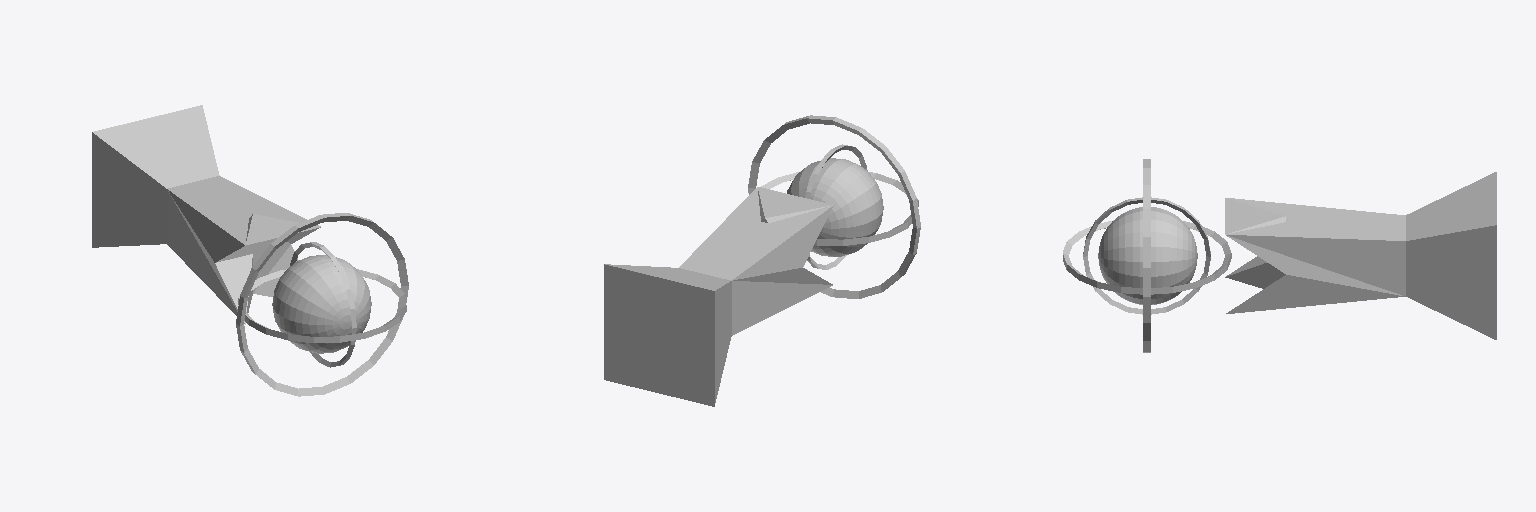
Rendered from Tower-CAPTURE.obj.
The picture shows the model from 3 angles: view 1: azimuth 30°, elevation 25°; view 2: azimuth 150°, elevation 25°; view 3: azimuth 270°, elevation 25°; orthographic projection.
Parts seen in each view (by area): view 1: polySurface6; view 2: polySurface6; view 3: polySurface6.
Boxes of the visible parts, box(x1,y1,x2,y2) form: polySurface6: box(92, 105, 408, 396); polySurface6: box(604, 115, 920, 406); polySurface6: box(1063, 159, 1496, 352).
Bounding box in the file's own units: 1.19 × 1.19 × 2.66.